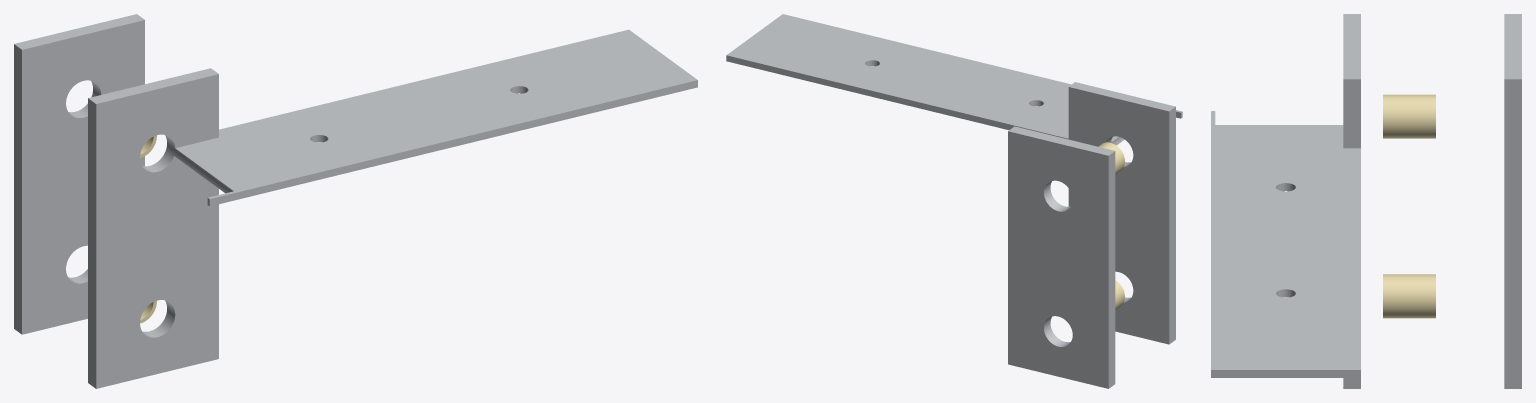
The model's file is car_A1_3.glb.
3 renders of one model, left to right at view 1: azimuth 30°, elevation 25°; view 2: azimuth 150°, elevation 25°; view 3: azimuth 270°, elevation 25°, orthographic. The views are drawn at different scales.
Parts seen in each view (by area): view 1: =>[0:1:1:5], =>[0:1:1:6]; view 2: =>[0:1:1:5], =>[0:1:1:6]; view 3: =>[0:1:1:5], =>[0:1:1:6], =>[0:1:1:8], =>[0:1:1:10].
Boxes of the visible parts, x1,y1,x2,y2 form: =>[0:1:1:5]: [88, 29, 697, 388]; =>[0:1:1:6]: [14, 14, 144, 334]; =>[0:1:1:5]: [726, 14, 1182, 344]; =>[0:1:1:6]: [1008, 126, 1115, 388]; =>[0:1:1:5]: [1211, 14, 1360, 388]; =>[0:1:1:6]: [1504, 14, 1521, 388]; =>[0:1:1:8]: [1383, 94, 1435, 138]; =>[0:1:1:10]: [1383, 274, 1435, 318].
Size of the model in its own units: 0.308 by 0.155 by 0.141.
